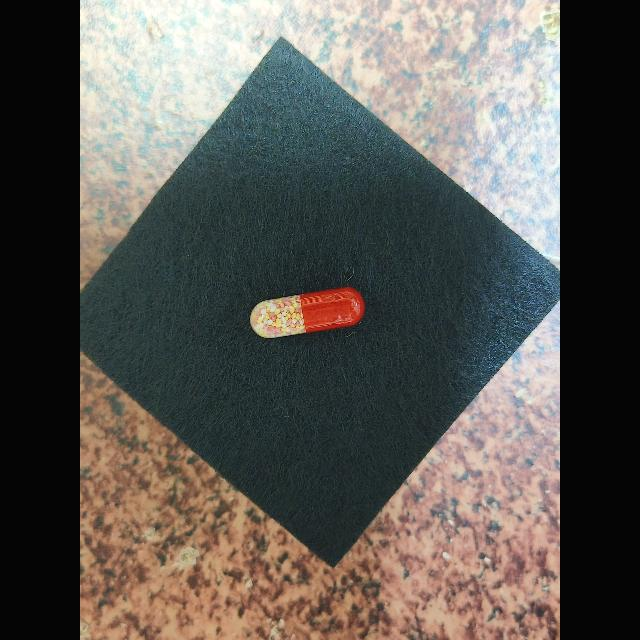Intact Capsule: (250, 287, 365, 338)
